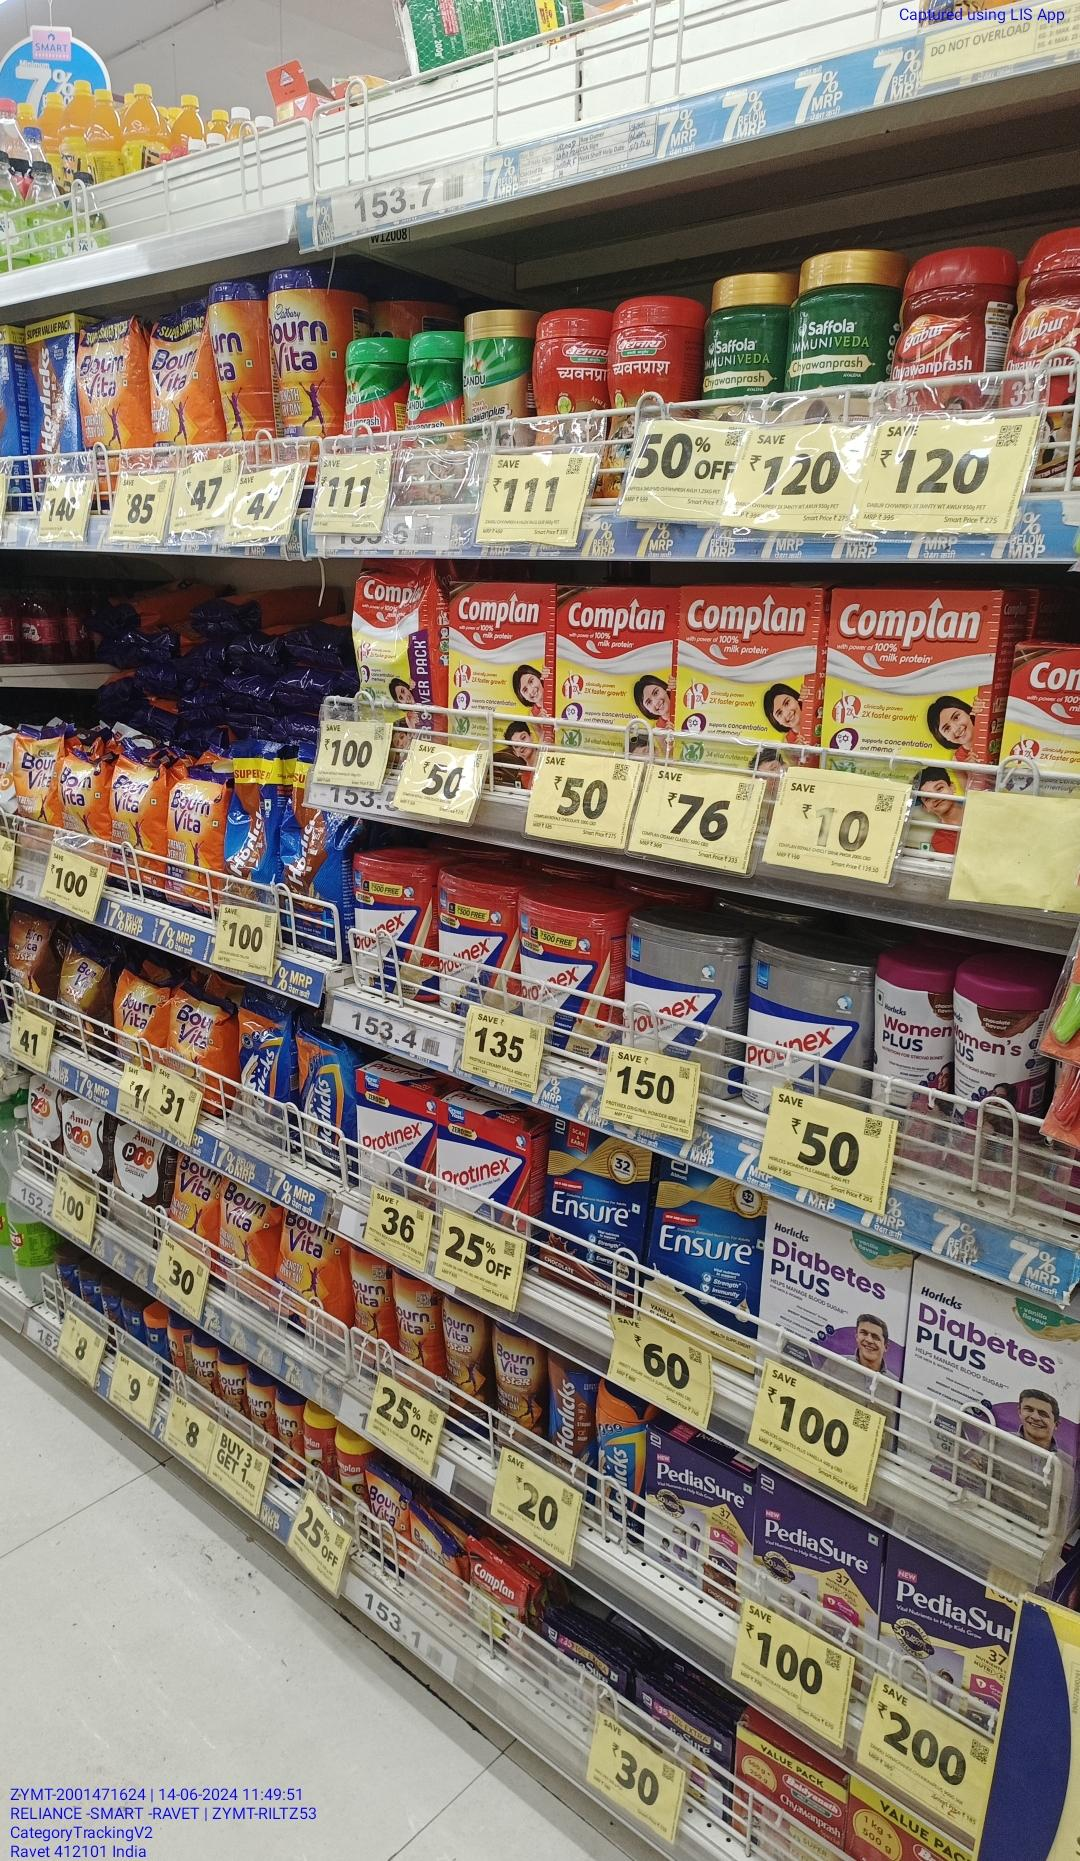BOURN_VITA_FIVE_STAR_MAGIC_500_G_JAR: (490, 1322, 540, 1448), (442, 1297, 487, 1392)
BOURN_VITA_FIVE_STAR_MAGIC_500_G_POUCH: (4, 911, 59, 979), (58, 948, 108, 1011)
HORLICK_CHOCOLATE_500_G_JAR: (552, 1349, 598, 1469)
PEDIASURE_CHOCOLATE_500_G_PACK: (643, 1455, 752, 1603)
PROTINEX_ORIGINAL_400_G_JAR: (748, 939, 865, 1104), (630, 919, 737, 1073)
PROTINEX_VANILLA_400_G_JAR: (521, 898, 618, 1050), (357, 853, 436, 1006), (442, 875, 521, 1014)
